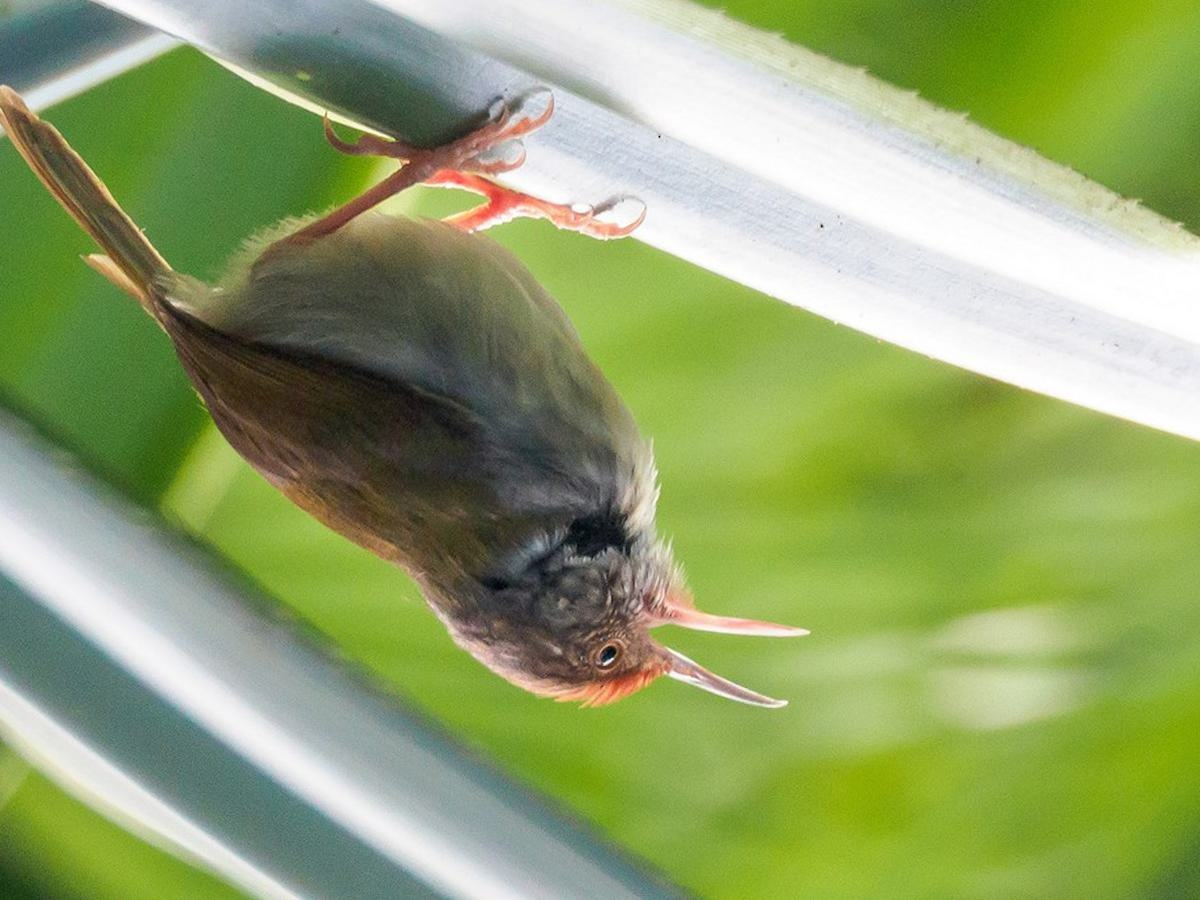tailorbird: (65, 106, 804, 747)
